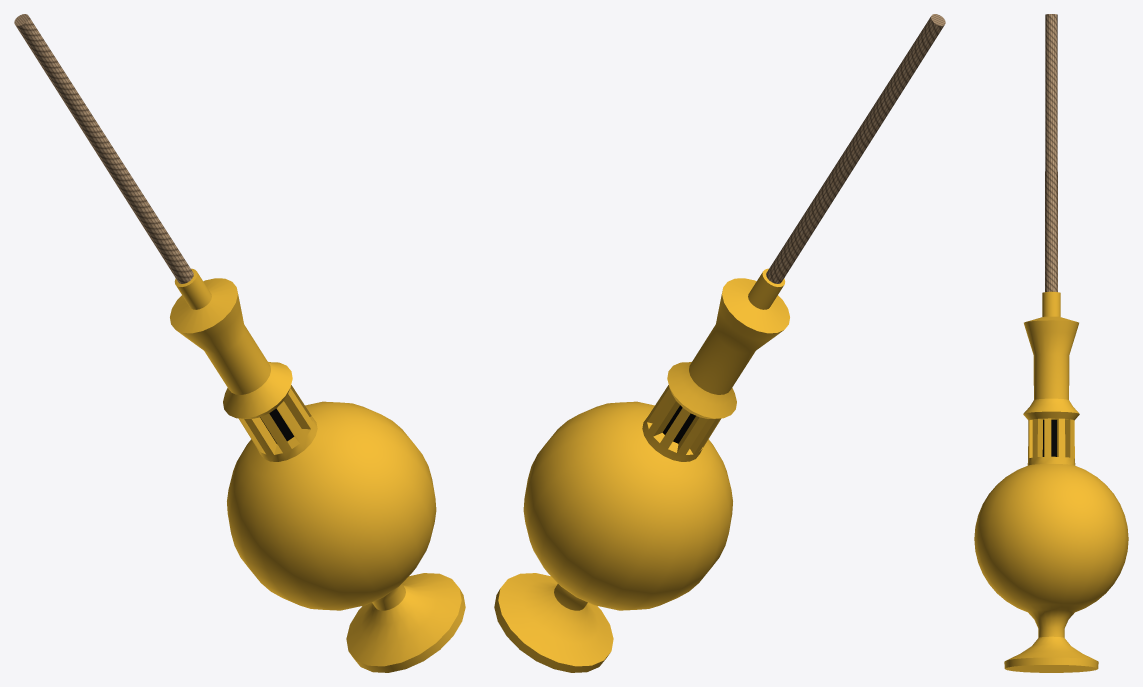
File: Thirmble.fbx
3 renders of one model, left to right at view 1: azimuth 30°, elevation 25°; view 2: azimuth 150°, elevation 25°; view 3: azimuth 270°, elevation 25°, orthographic. The views are drawn at different scales.
Parts seen in each view (by area): view 1: Thurible; view 2: Thurible; view 3: Thurible.
Part boxes in pixels (x1,y1,x2,y2): Thurible: [14, 14, 465, 672]; Thurible: [494, 14, 945, 672]; Thurible: [974, 14, 1128, 672].
Bounding box in the file's own units: 8.95 × 14.23 × 3.69.
